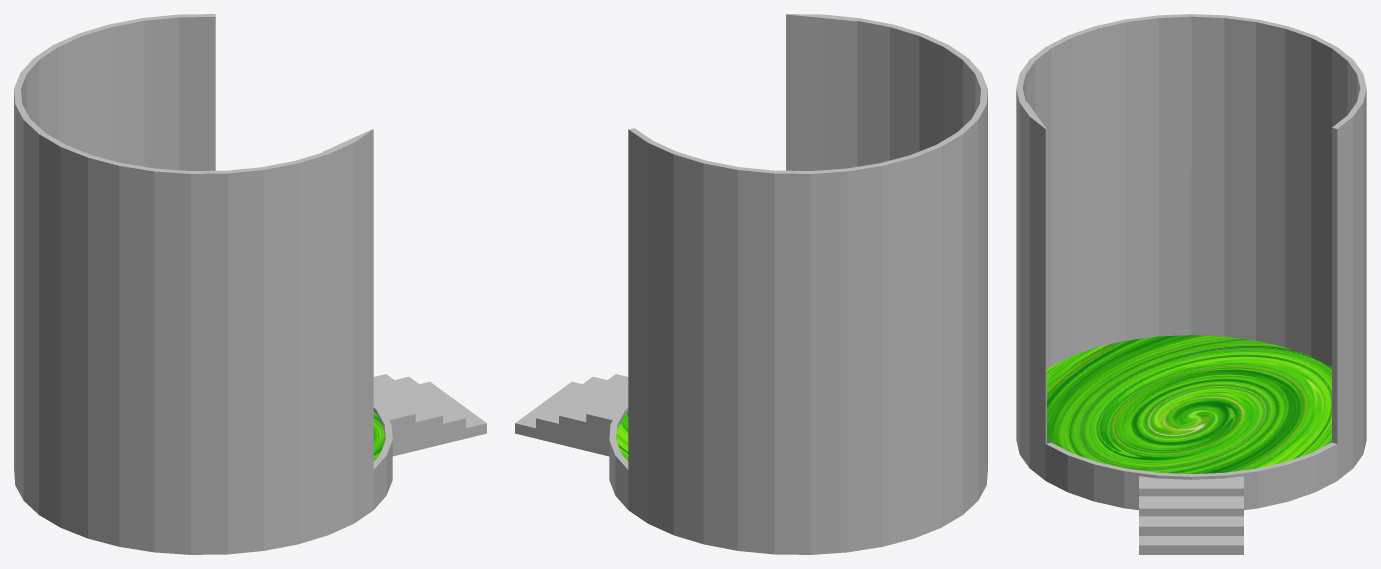
File: Teleporters.fbx
3 views of the same model, side by side, from view 1: azimuth 30°, elevation 25°; view 2: azimuth 150°, elevation 25°; view 3: azimuth 270°, elevation 25° (orthographic). The views are drawn at different scales.
Parts seen in each view (by area): view 1: Cylinder, Cylinder.001, Cube; view 2: Cylinder, Cylinder.001, Cube; view 3: Cylinder, Cylinder.001, Cube.
Boxes of the visible parts, x1=… form: Cylinder: x1=14, y1=14, x2=385, y2=514; Cylinder.001: x1=14, y1=400, x2=392, y2=554; Cube: x1=373, y1=374, x2=486, y2=456; Cylinder: x1=616, y1=14, x2=987, y2=514; Cylinder.001: x1=609, y1=400, x2=987, y2=554; Cube: x1=515, y1=374, x2=628, y2=456; Cylinder: x1=1016, y1=14, x2=1366, y2=473; Cylinder.001: x1=1016, y1=404, x2=1366, y2=510; Cube: x1=1139, y1=476, x2=1243, y2=554.
Size of the model in its own units: 2553 by 2216 by 2000.
